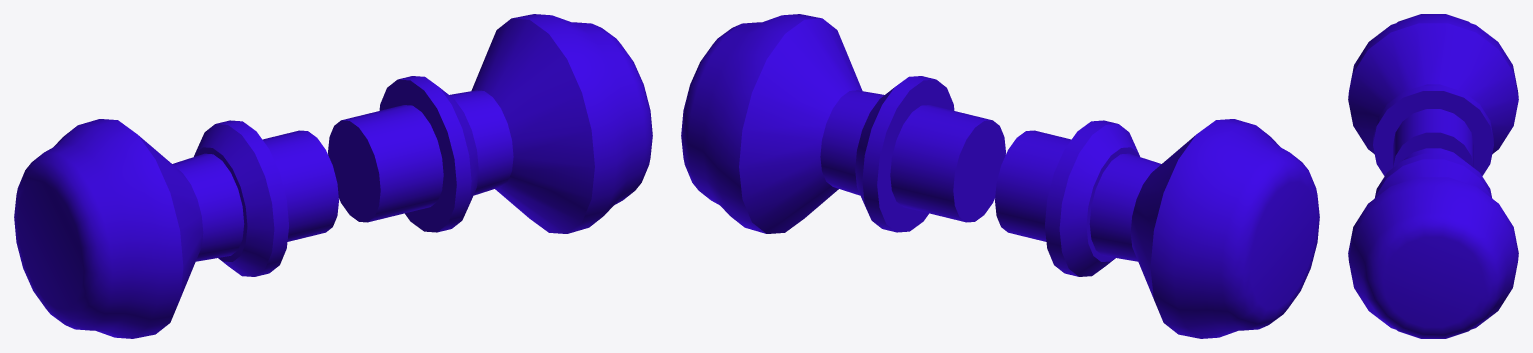
The model's file is handle.FBX.
3 renders of one model, left to right at view 1: azimuth 30°, elevation 25°; view 2: azimuth 150°, elevation 25°; view 3: azimuth 270°, elevation 25°, orthographic. The views are drawn at different scales.
Parts seen in each view (by area): view 1: Cylinder001; view 2: Cylinder001; view 3: Cylinder001.
Part boxes in pixels (x1=…): Cylinder001: x1=14, y1=14, x2=652, y2=338; Cylinder001: x1=681, y1=14, x2=1319, y2=338; Cylinder001: x1=1348, y1=14, x2=1518, y2=338.
Bounding box in the file's own units: 9.12 × 3.06 × 3.11.
